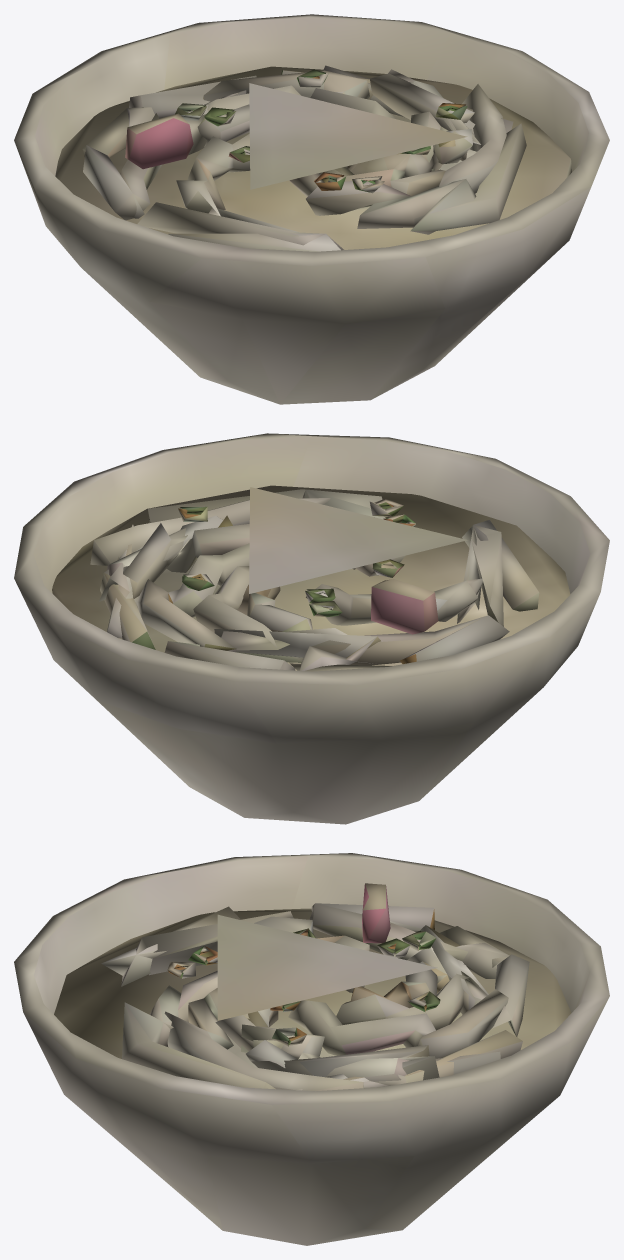
Rendered from udon.glb.
3 renders of one model, top to bottom at view 1: azimuth 30°, elevation 25°; view 2: azimuth 150°, elevation 25°; view 3: azimuth 270°, elevation 25°, orthographic.
Visible parts, largest first — view 1: prop_udon_felt; view 2: prop_udon_felt; view 3: prop_udon_felt.
Boxes of the visible parts, left/top/right/bottom form: prop_udon_felt: left=14, top=14, right=609, bottom=404; prop_udon_felt: left=14, top=433, right=609, bottom=824; prop_udon_felt: left=14, top=853, right=609, bottom=1245.
Bounding box in the file's own units: 0.2839 × 0.1273 × 0.2839.
1 material, 1 textured.
